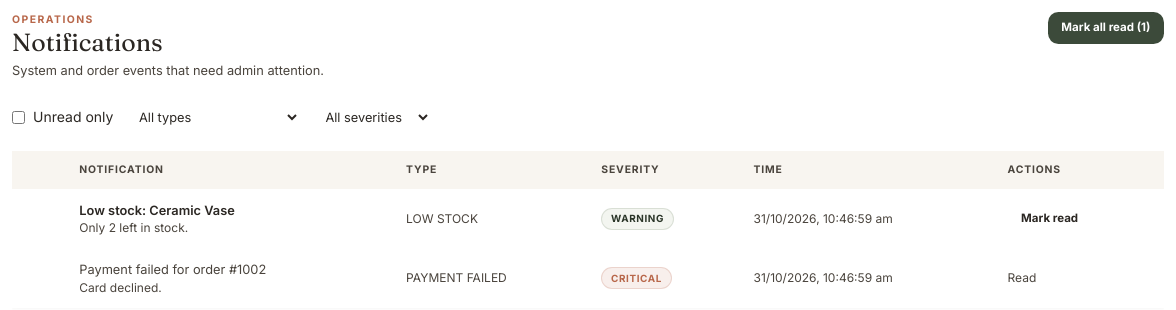
Test: AdminNotifications › filters by type
Expected: the text "Low stock: Ceramic Vase" is shown, x1=79 y1=203 x2=235 y2=218
Select "LOW STOCK" in the 1st dropdown: (211, 117) x1=122 y1=98 x2=300 y2=136
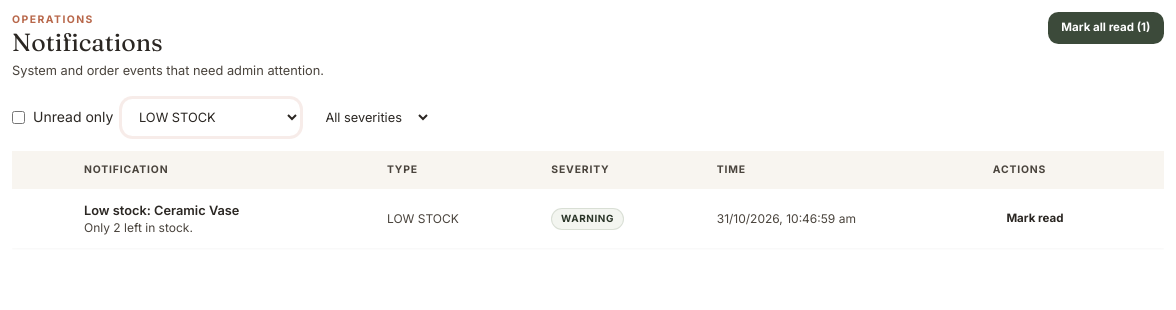
Expected: the text "Low stock: Ceramic Vase" is shown, x1=84 y1=203 x2=240 y2=218
Expected: the link "Payment failed for order #1002" is gone
